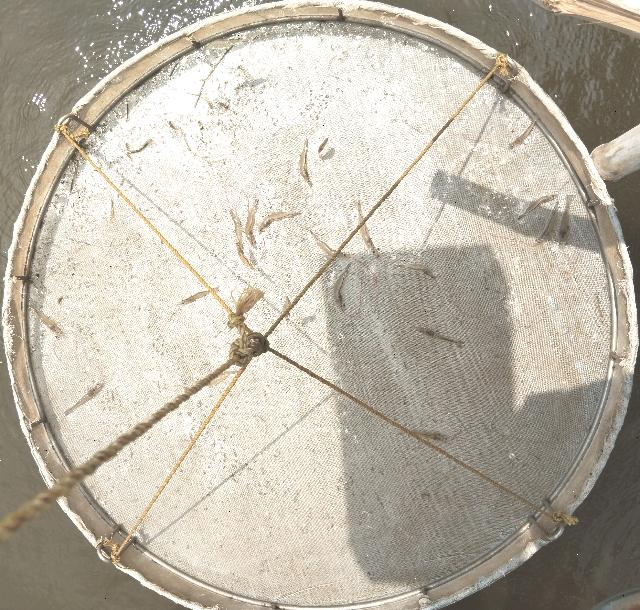shrimp: (353, 200, 380, 259), (27, 299, 65, 339), (63, 383, 103, 417), (309, 229, 347, 260), (256, 211, 303, 235), (416, 328, 466, 349), (334, 263, 351, 312), (178, 287, 220, 305), (395, 263, 437, 281), (299, 139, 314, 188), (397, 431, 452, 444), (235, 238, 256, 272), (245, 199, 259, 250), (228, 209, 244, 250), (317, 138, 329, 154)
